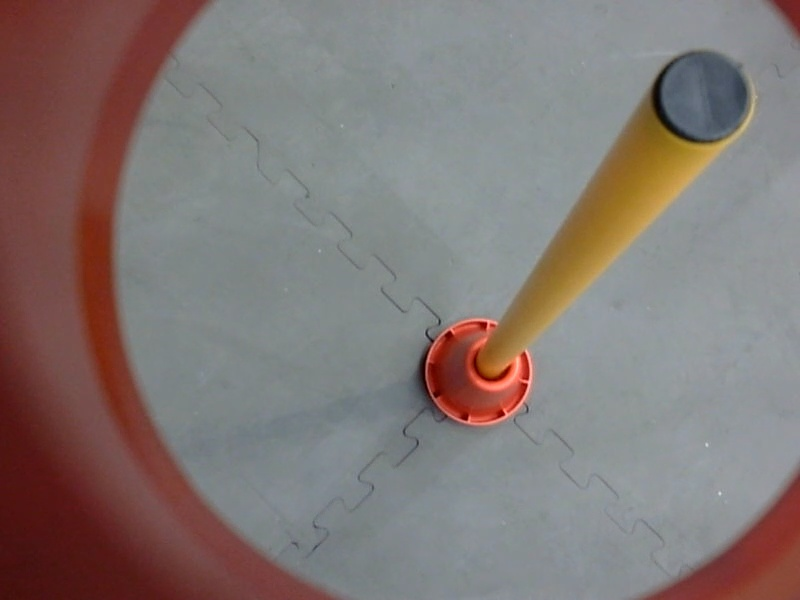tip: (645, 38, 760, 159)
